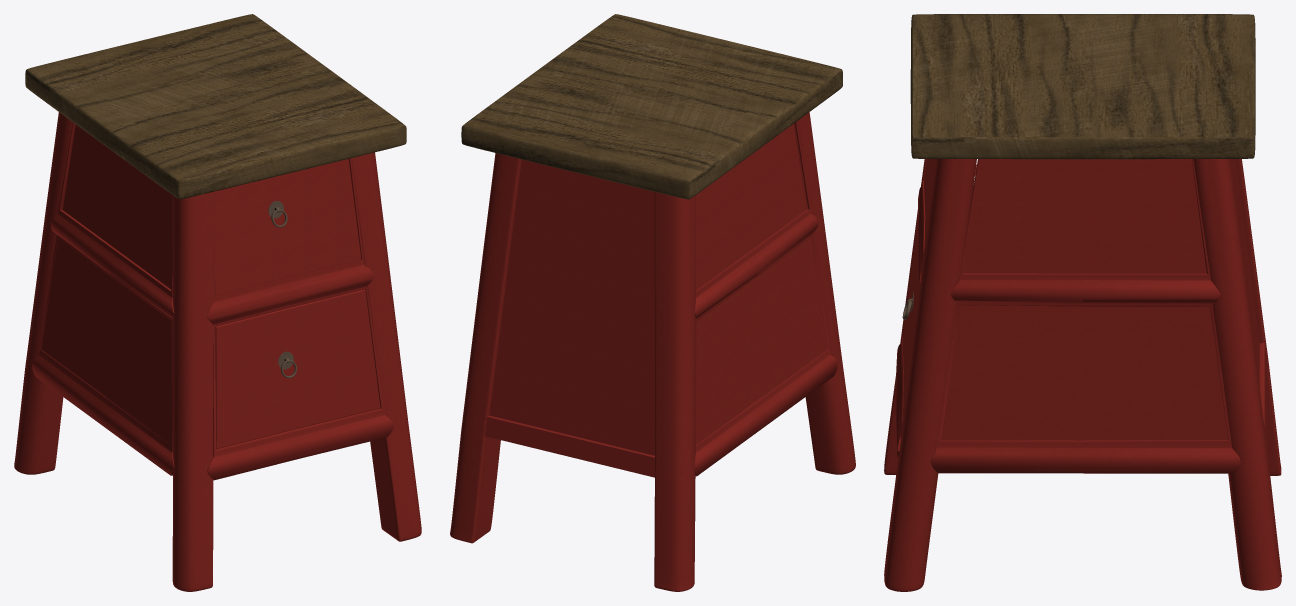
The model's file is stool_liang.gltf.
3 renders of one model, left to right at view 1: azimuth 30°, elevation 25°; view 2: azimuth 150°, elevation 25°; view 3: azimuth 270°, elevation 25°, orthographic. The views are drawn at different scales.
Parts seen in each view (by area): view 1: Mesh32; view 2: Mesh32; view 3: Mesh32.
Part boxes in pixels (bbox=[...]): Mesh32: bbox=[14, 14, 421, 591]; Mesh32: bbox=[450, 14, 855, 591]; Mesh32: bbox=[884, 14, 1281, 591].
Bounding box in the file's own units: 0.2706 × 0.4289 × 0.3426.
1 material, 1 textured.
